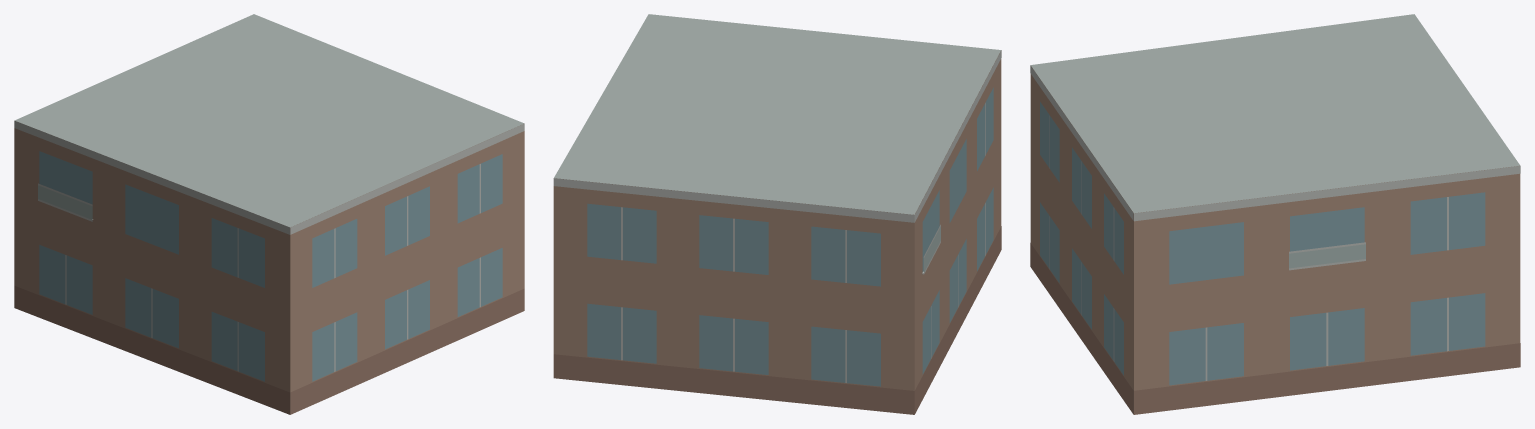
Rendered from survey-upis-32612058.glb.
3 renders of one model, left to right at view 1: azimuth 30°, elevation 25°; view 2: azimuth 150°, elevation 25°; view 3: azimuth 270°, elevation 25°, orthographic. The views are drawn at different scales.
Parts seen in each view (by area): view 1: survey-upis-32612058.tmp; view 2: survey-upis-32612058.tmp; view 3: survey-upis-32612058.tmp.
Boxes of the visible parts, left/top/right/bottom form: survey-upis-32612058.tmp: left=14, top=14, right=524, bottom=414; survey-upis-32612058.tmp: left=553, top=14, right=1001, bottom=414; survey-upis-32612058.tmp: left=1030, top=14, right=1520, bottom=414.
Size of the model in its own units: 12.94 by 6.1 by 13.45.
